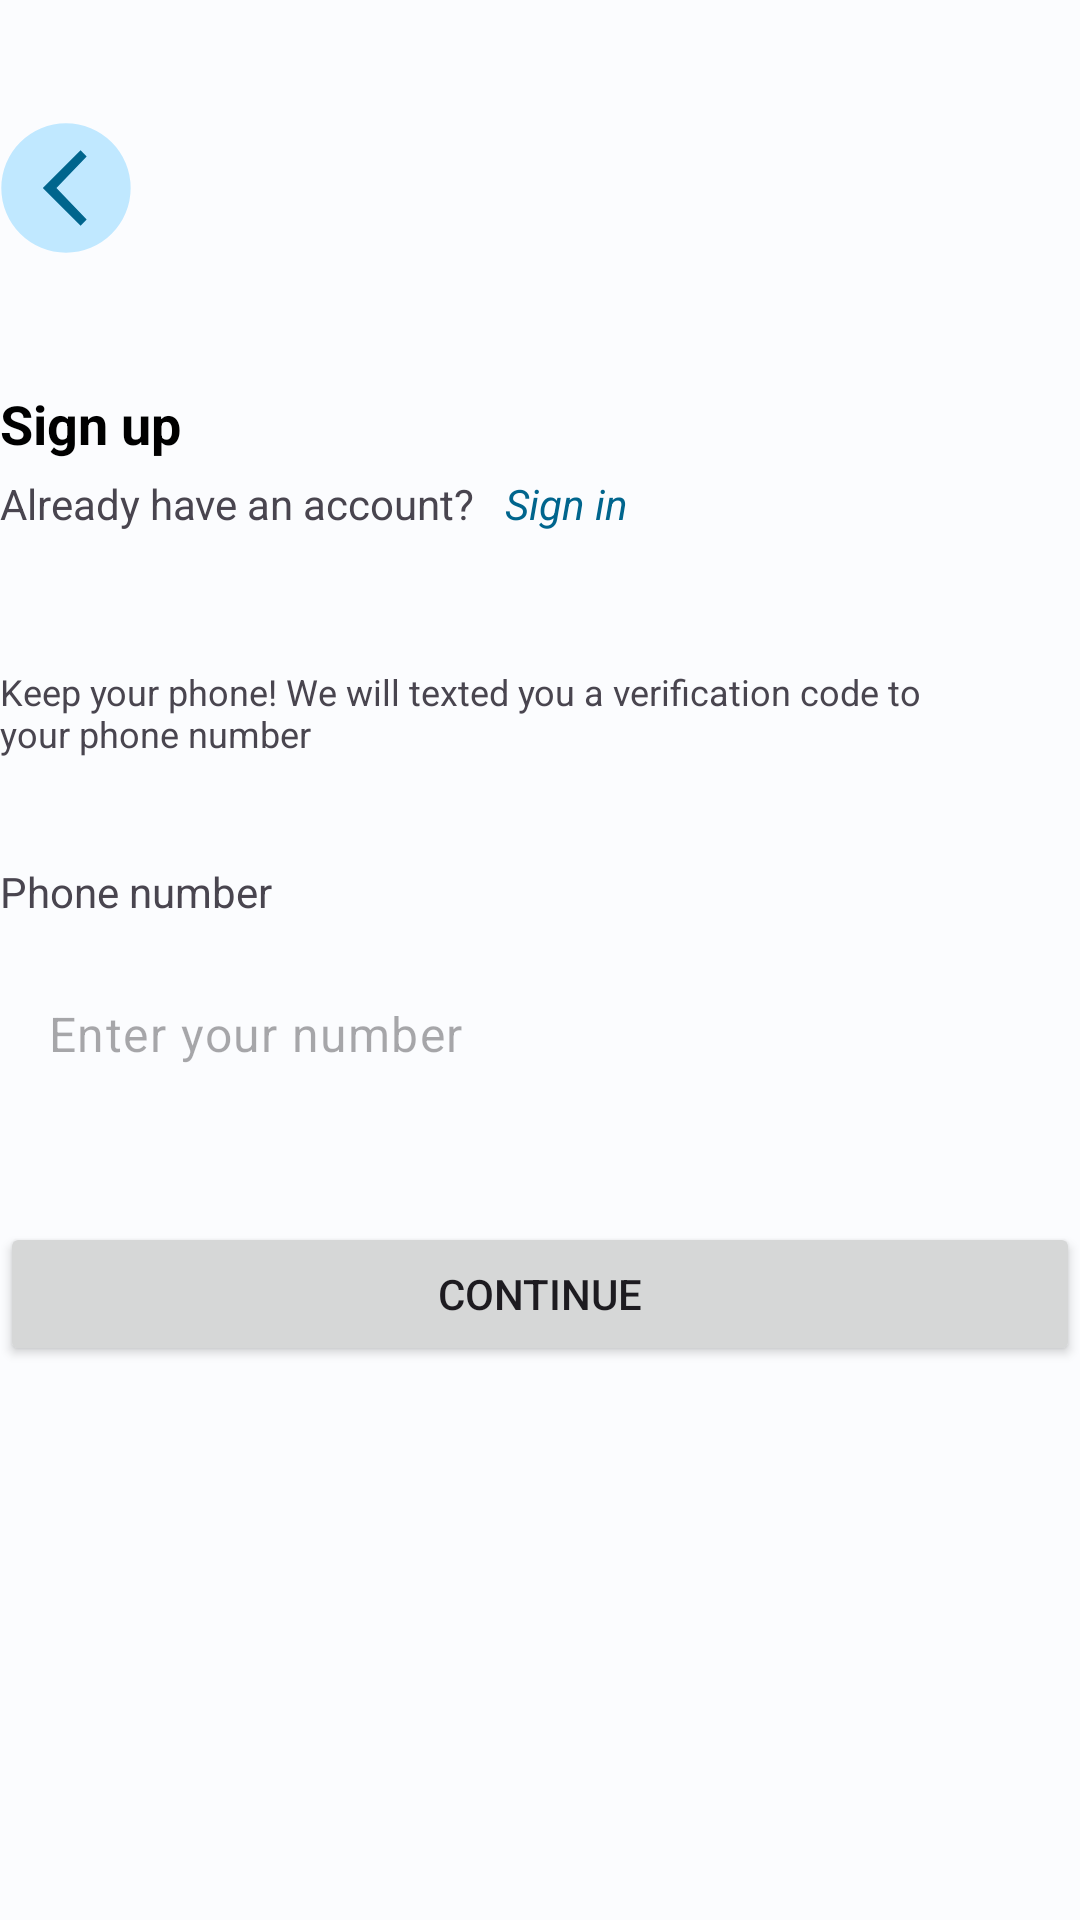

Point at icon controls on the screen. Image size 1080*1920, points as point (x, y).
Back: point (66, 188)
